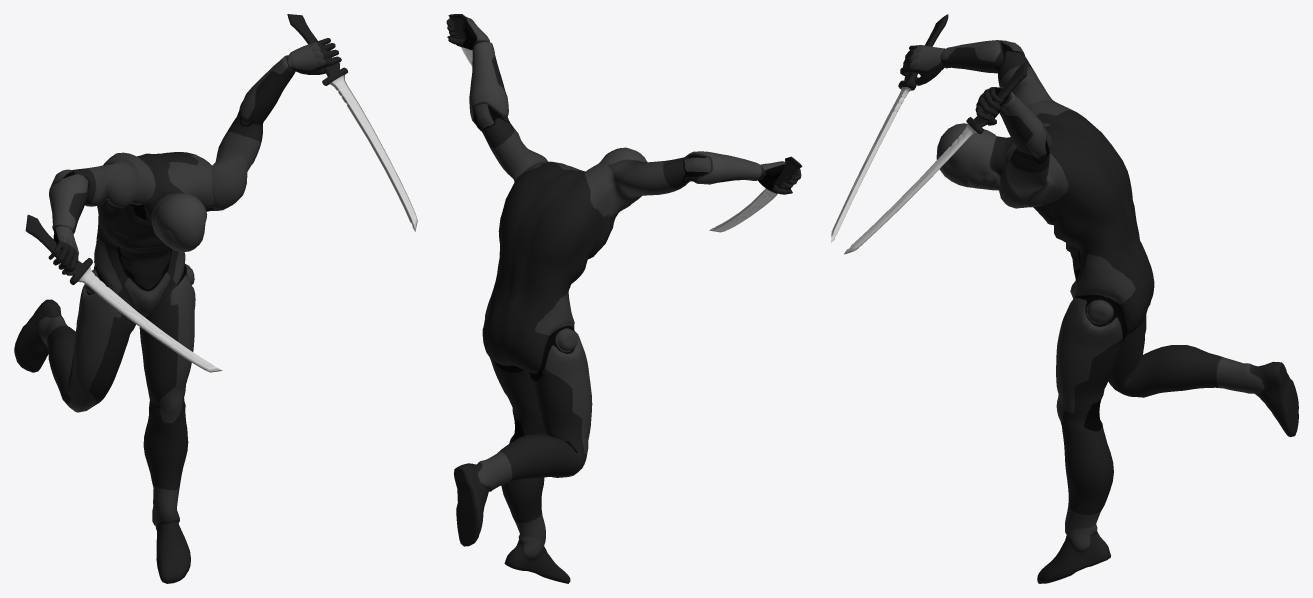
The picture shows the model from 3 angles, left to right: view 1: azimuth 30°, elevation 25°; view 2: azimuth 150°, elevation 25°; view 3: azimuth 270°, elevation 25°; orthographic projection. The views are drawn at different scales.
Visible parts, largest first — view 1: Cyborg_Ninja_Killer, Sword_l001, Sword_l; view 2: Cyborg_Ninja_Killer, Sword_l001; view 3: Cyborg_Ninja_Killer, Sword_l, Sword_l001.
Boxes of the visible parts, x1,y1,x2,y2 form: Cyborg_Ninja_Killer: [14, 38, 341, 583]; Sword_l001: [25, 214, 222, 372]; Sword_l: [287, 14, 417, 231]; Cyborg_Ninja_Killer: [446, 17, 801, 583]; Sword_l001: [709, 156, 802, 232]; Cyborg_Ninja_Killer: [900, 40, 1298, 583]; Sword_l: [844, 62, 1028, 254]; Sword_l001: [831, 14, 948, 242].
Size of the model in its own units: 142 by 210 by 155.
2 materials, 2 textured.
